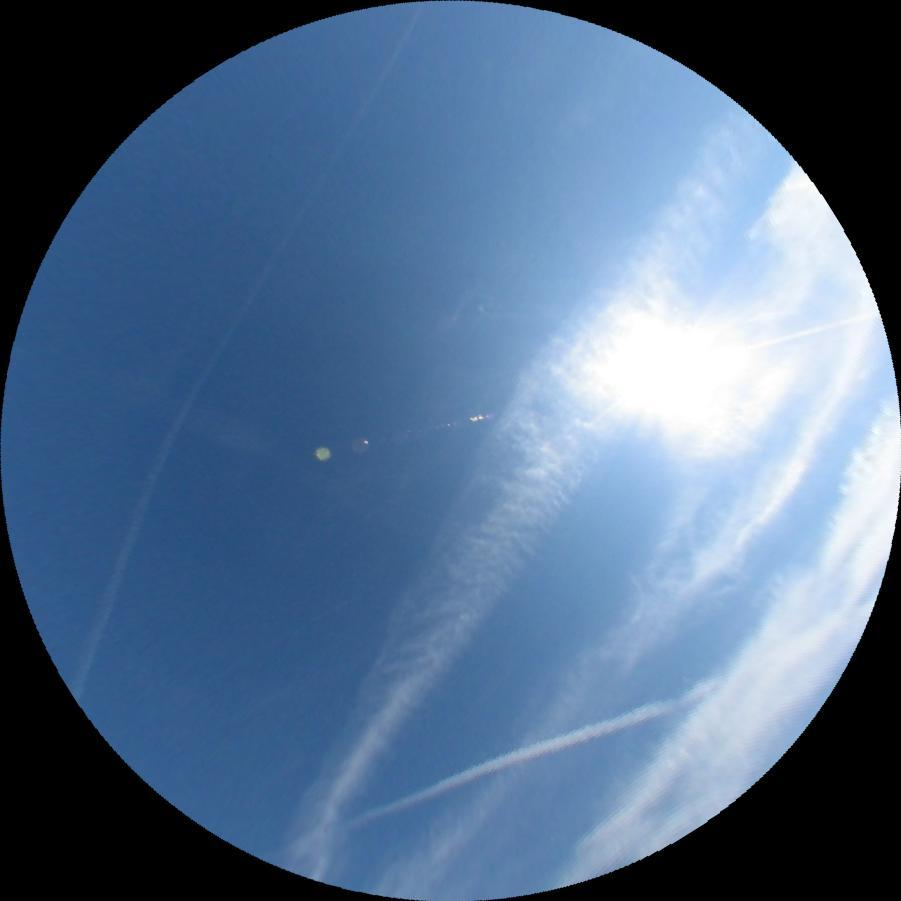contrail old: (42, 0, 429, 701), (322, 674, 725, 841)
contrail veryold: (226, 79, 797, 892)
parasite: (714, 305, 879, 359)
sun: (621, 325, 726, 411)
